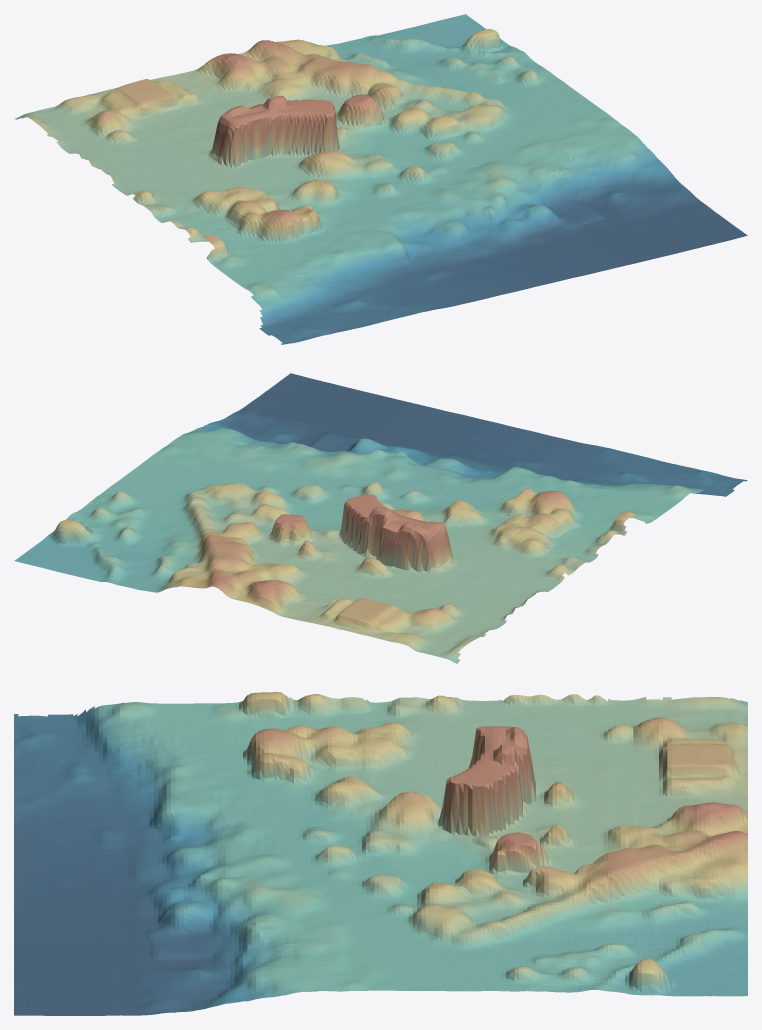
Rendered from oma084_disp_lidar.glb.
3 renders of one model, top to bottom at view 1: azimuth 30°, elevation 25°; view 2: azimuth 150°, elevation 25°; view 3: azimuth 270°, elevation 25°, orthographic. The views are drawn at different scales.
Visible parts, largest first — view 1: world; view 2: world; view 3: world.
Part boxes in pixels (x1=…): world: x1=14, y1=14, x2=747, y2=344; world: x1=14, y1=373, x2=747, y2=663; world: x1=14, y1=692, x2=747, y2=1015.
Bounding box in the file's own units: 330 × 46.77 × 346.
